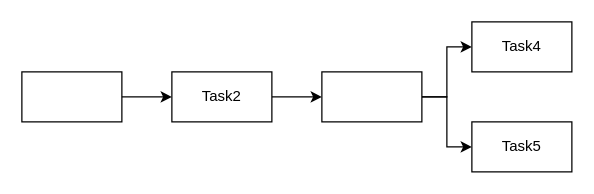
Some shapes in this 594 by 194 pixel diagram are drawn without their labels. The shapes that lost their labels are listed below. From the top down, each one's centre as x and y in pixels, then its label:
At (71,96): "Task1".
At (371,96): "Task3".
